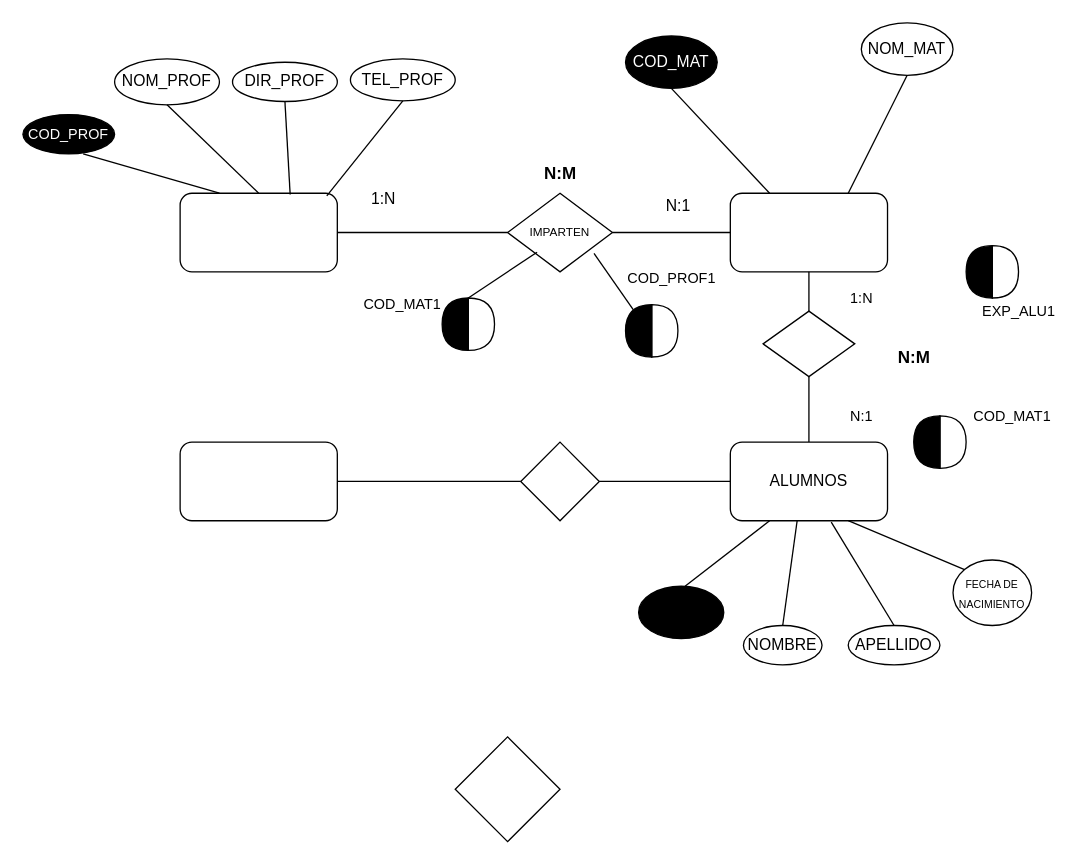
The diagram is 1087 pixels wide and 865 high, and some of its shapes have lost their labels. The shapes that lost their labels are listed below. From the top down, each one's centre as x and y in pixels, then its label:
the point at 258,232: PROFESORES
the point at 808,232: MATERIAS
the point at 808,343: CURSAN
the point at 258,481: CURSO
the point at 680,612: EXP_ALU
